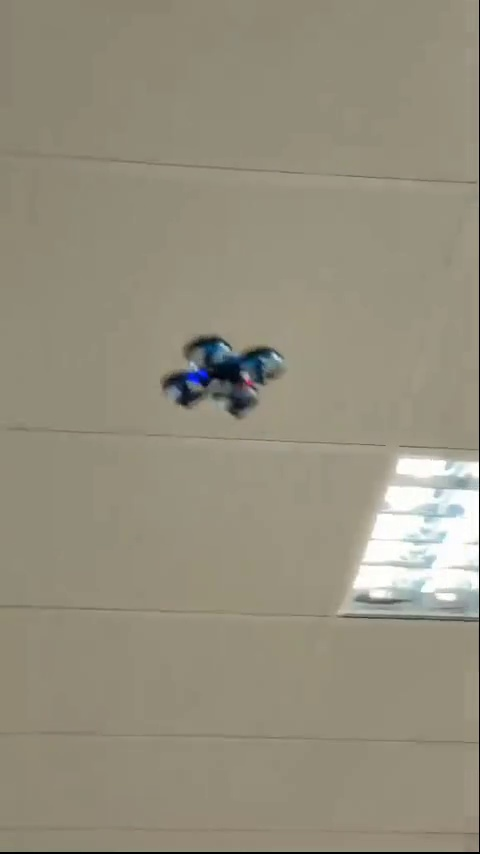drone: (158, 333, 282, 421)
